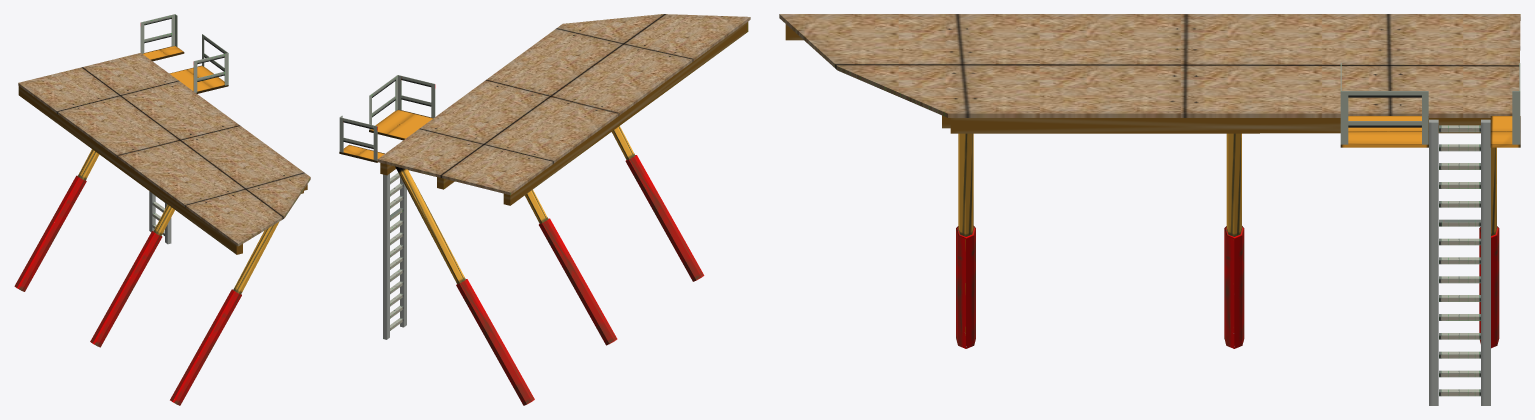
File: obdeck1.fbx
3 renders of one model, left to right at view 1: azimuth 30°, elevation 25°; view 2: azimuth 150°, elevation 25°; view 3: azimuth 270°, elevation 25°, orthographic. The views are drawn at different scales.
Parts seen in each view (by area): view 1: polySurface86; view 2: polySurface86; view 3: polySurface86.
Part boxes in pixels (x1,y1,x2,y2): polySurface86: (14,14,310,405); polySurface86: (339,14,750,405); polySurface86: (779,14,1520,405).
Size of the model in its own units: 338 by 442 by 763.
